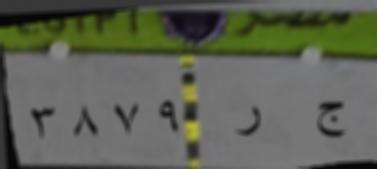3: (28, 104, 60, 144)
7: (112, 101, 142, 140)
8: (68, 104, 102, 144)
9: (156, 96, 182, 136)
jeem: (314, 95, 350, 144)
raa: (233, 102, 264, 140)
